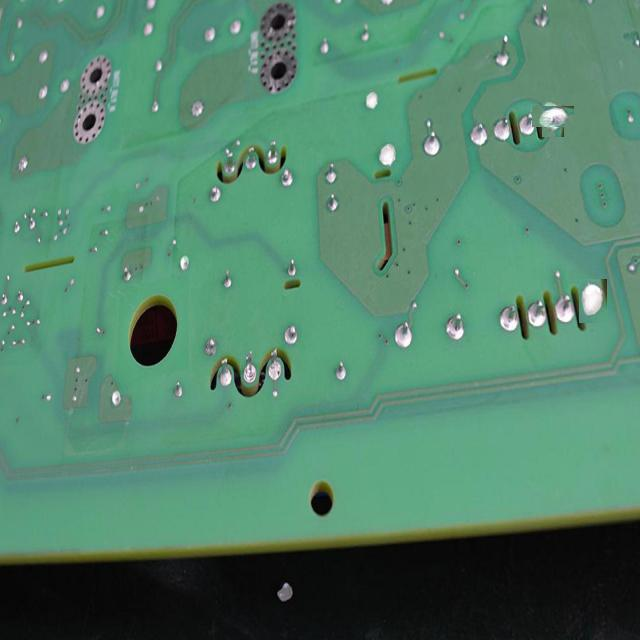slug: (579, 279, 607, 323), (537, 100, 569, 132)
